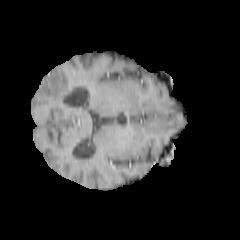glioma: (41, 68, 73, 102)
